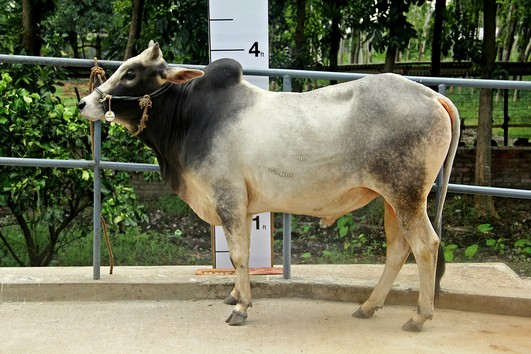cow: (69, 36, 468, 332)
